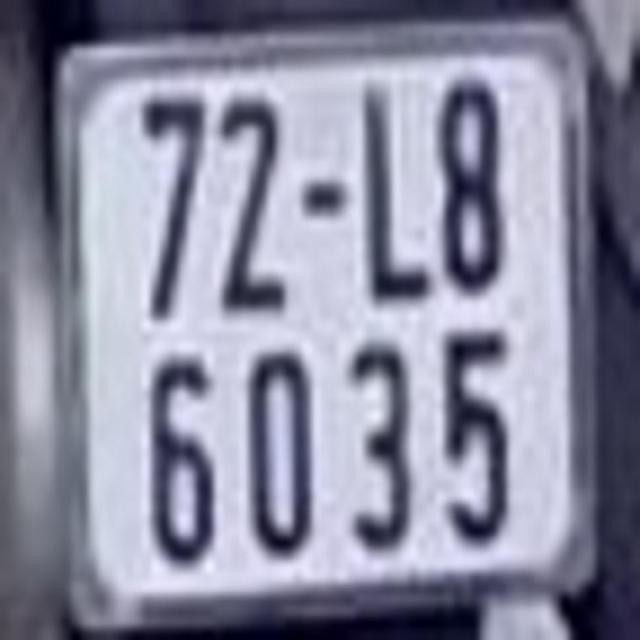0: (243, 352, 317, 554)
2: (212, 103, 291, 308)
3: (347, 349, 407, 544)
5: (443, 329, 509, 537)
6: (143, 353, 217, 561)
7: (140, 100, 199, 322)
8: (436, 84, 504, 287)
L: (358, 90, 428, 296)
